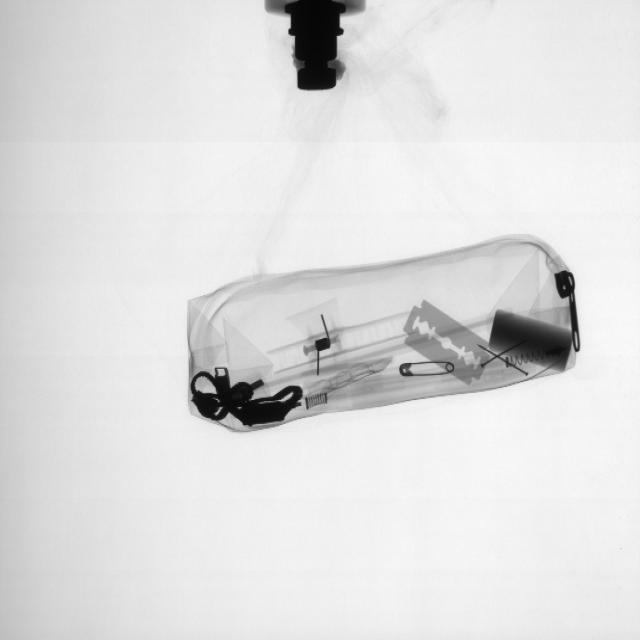BLADE: (401, 297, 492, 383)
